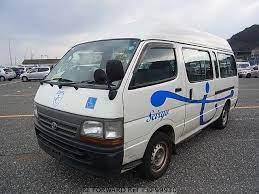van: (34, 29, 239, 172)
